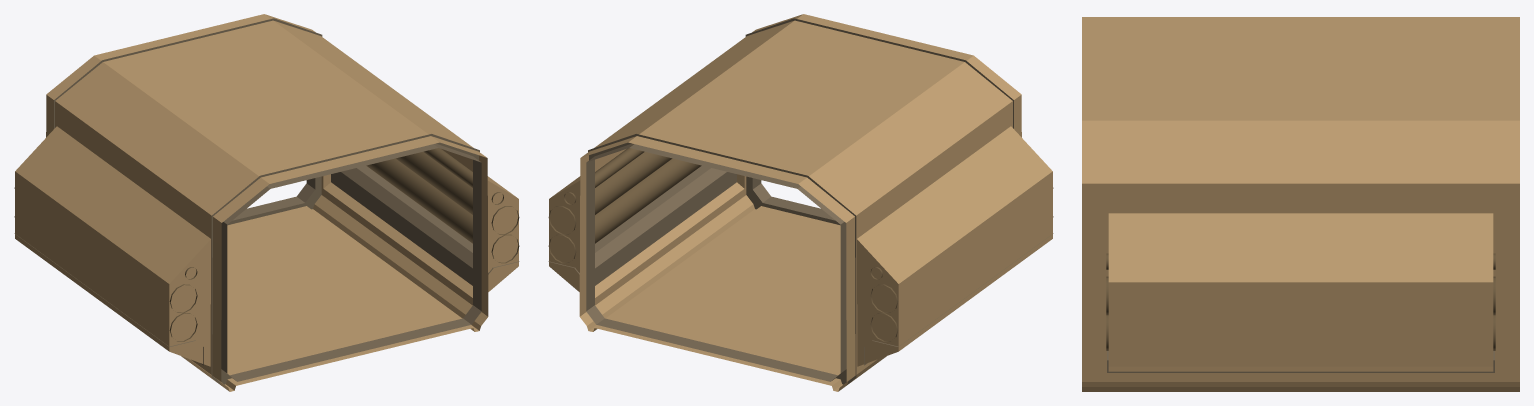
File: Hallway.fbx
The picture shows the model from 3 angles, left to right: view 1: azimuth 30°, elevation 25°; view 2: azimuth 150°, elevation 25°; view 3: azimuth 270°, elevation 25°; orthographic projection. The views are drawn at different scales.
Visible parts, largest first — view 1: HallWay; view 2: HallWay; view 3: HallWay.
Part boxes in pixels (x1,y1,x2,y2): HallWay: (14,14,519,391); HallWay: (548,14,1053,391); HallWay: (1082,17,1519,391).
Bounding box in the file's own units: 5.1 × 2.79 × 4.43.
